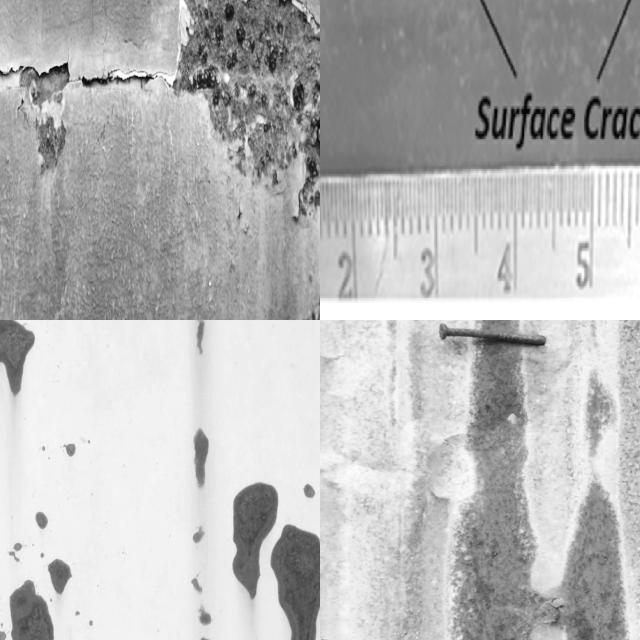Pitting Corrosion: (172, 0, 320, 219), (22, 67, 68, 183)
Uniform Corrosion: (447, 339, 542, 640), (527, 472, 627, 640), (556, 481, 627, 640), (232, 482, 278, 614), (270, 524, 320, 640), (584, 320, 619, 479), (189, 525, 221, 629), (386, 320, 400, 458), (587, 375, 605, 455), (194, 429, 209, 493), (48, 559, 71, 593), (35, 511, 48, 529)
